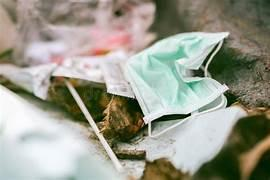Mask: (125, 32, 228, 123), (118, 106, 246, 173)
